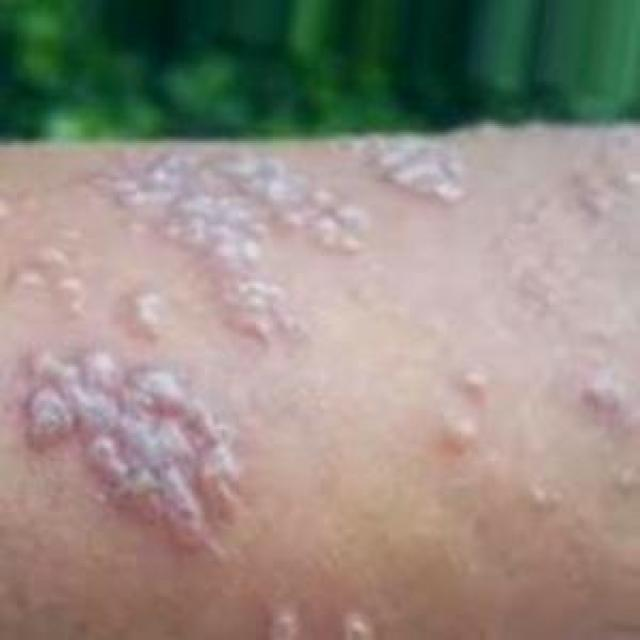Shingles: (88, 138, 364, 353), (18, 342, 256, 559), (343, 129, 472, 215), (268, 610, 378, 640)
